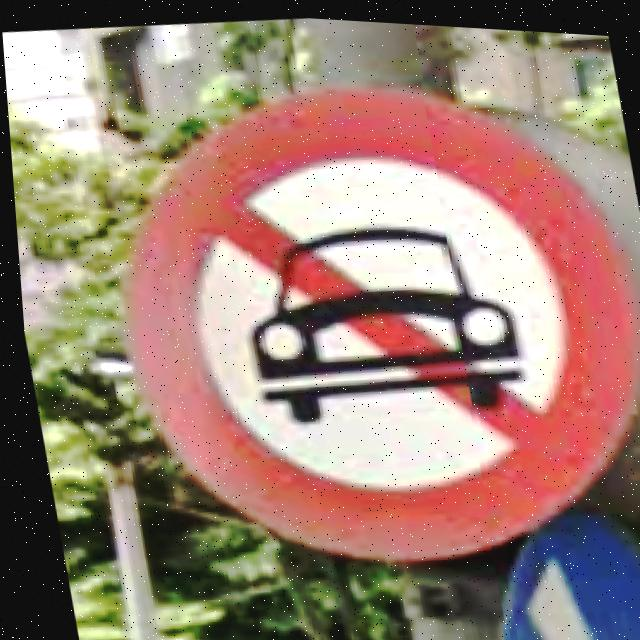nocar: (118, 86, 640, 557)
